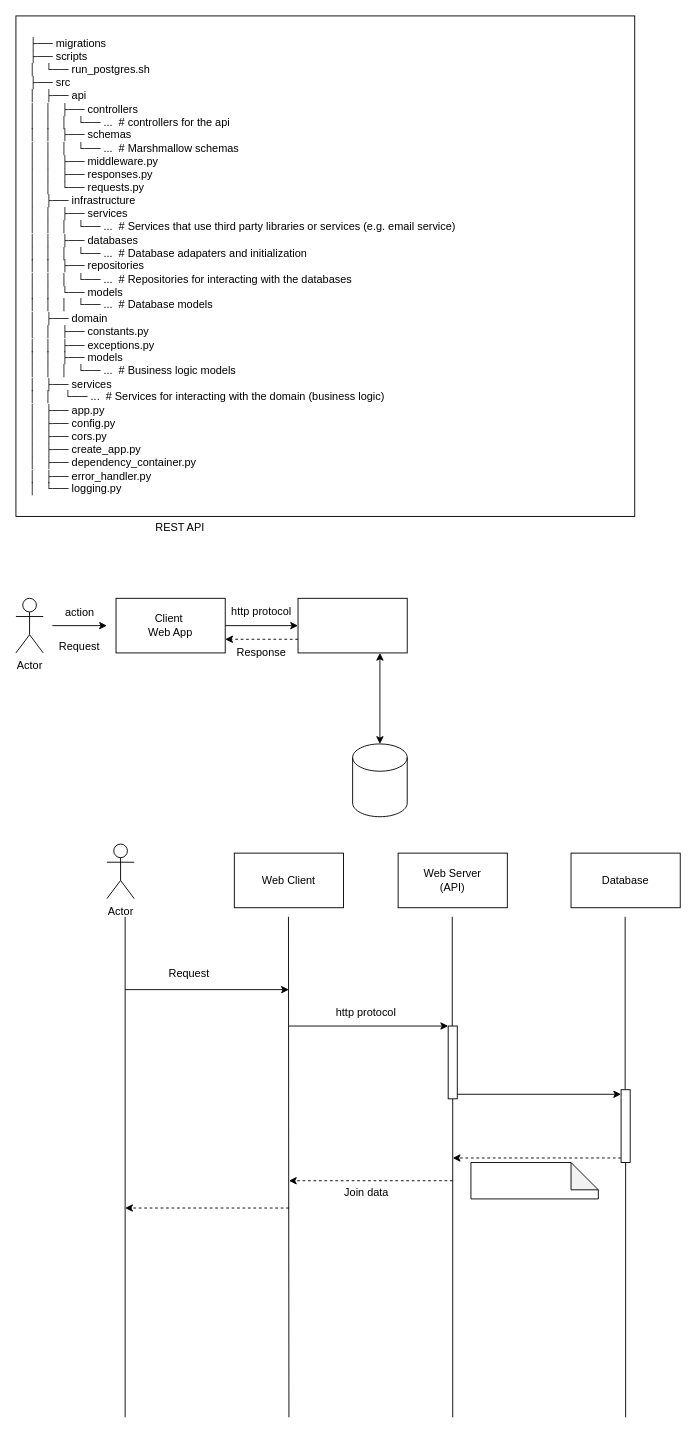
This 696x1434 diagram has some shape labels left out. The box of each missing label's shape, as (x1, y1, x2, y2) in pixels:
<<Data>>: (470, 1162, 598, 1199)
Server Web API: (297, 597, 407, 653)
